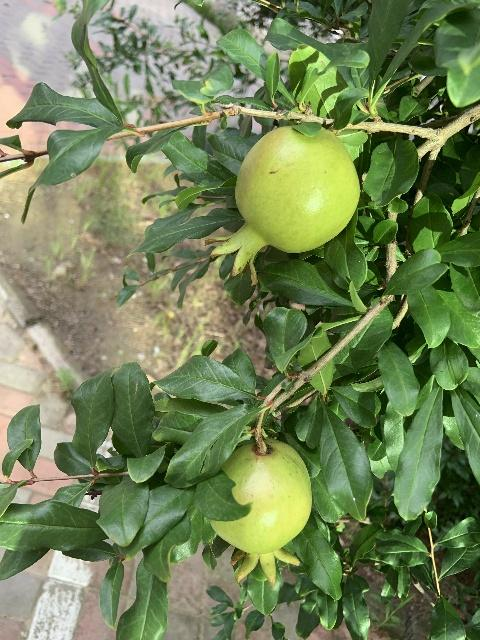mid-growth: (205, 124, 359, 287), (211, 438, 312, 587)
